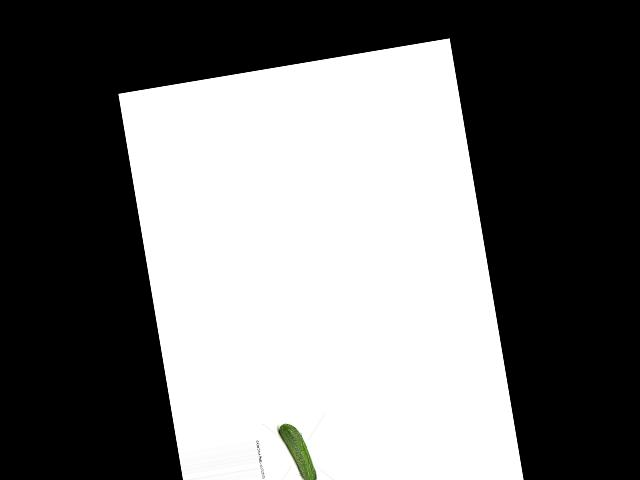cucumber: (277, 420, 318, 480)
